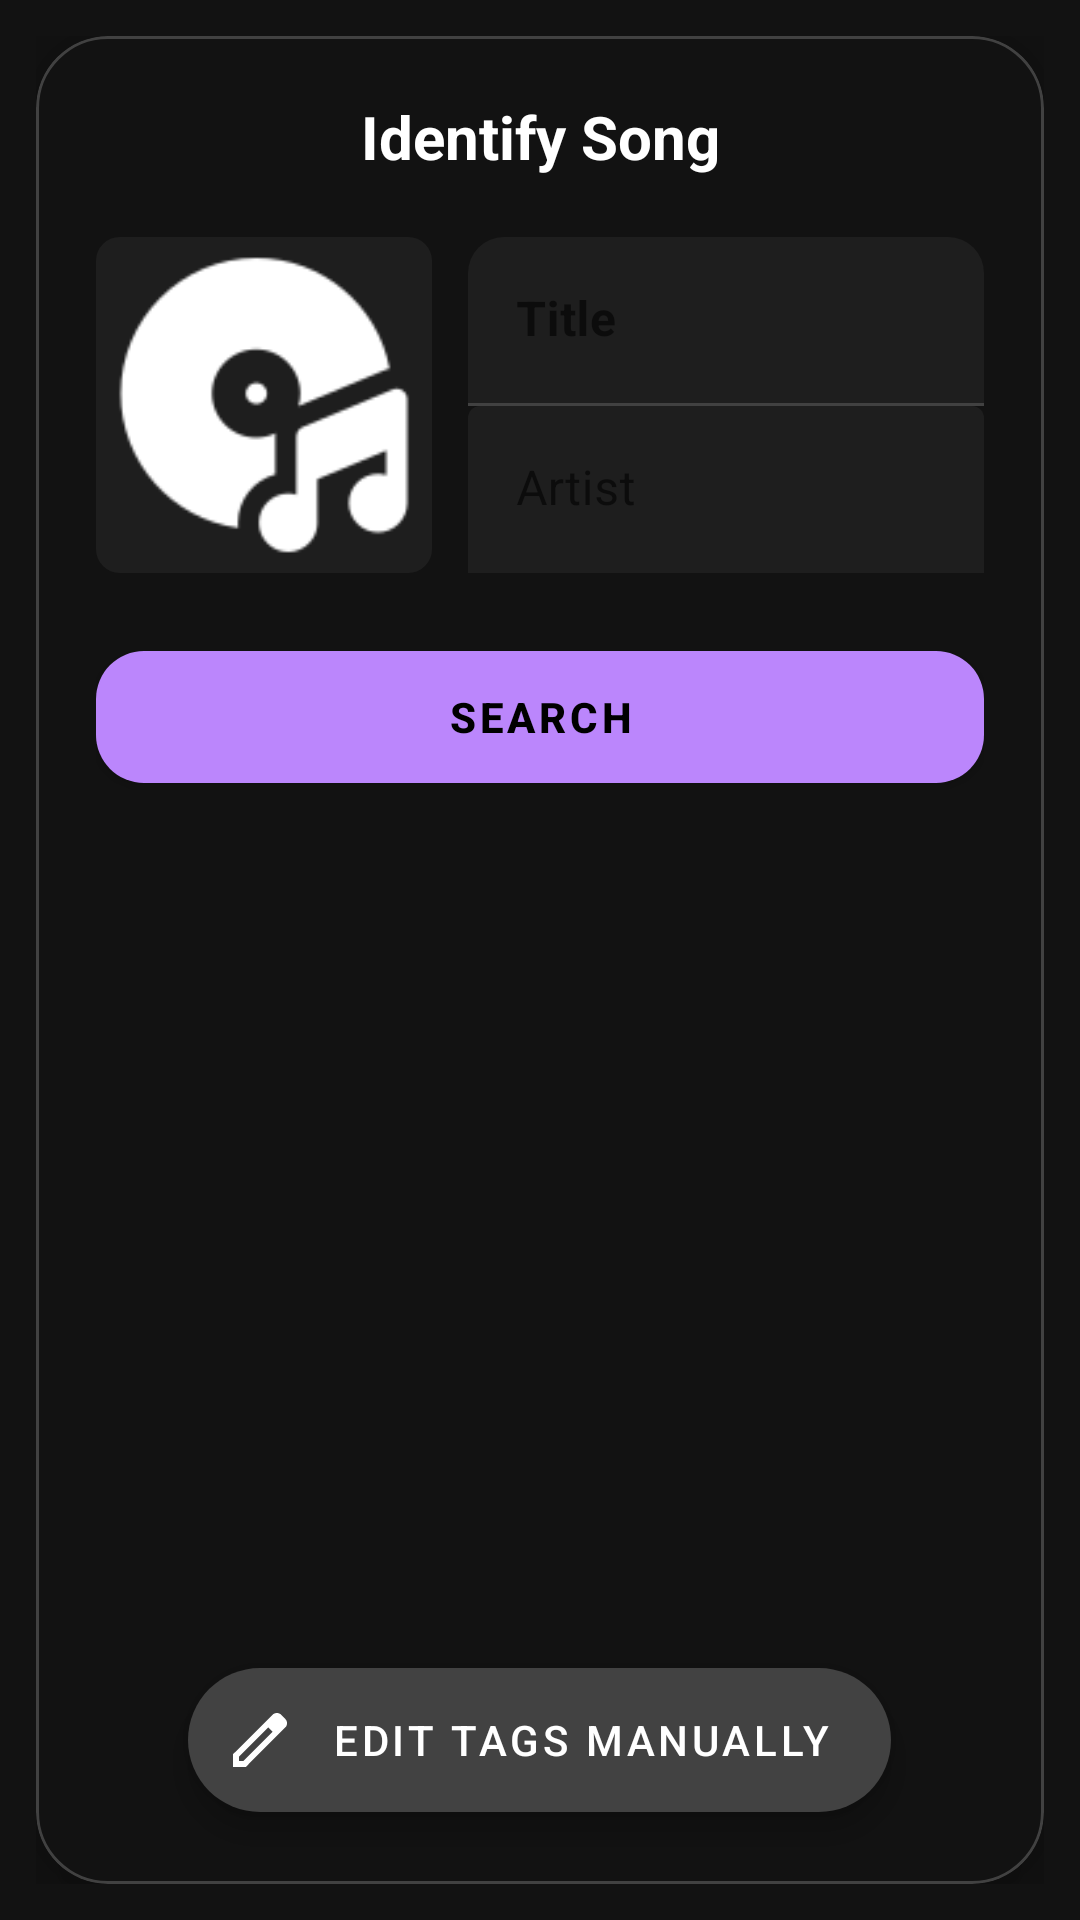

Locate icon controls on the screen. Image size 1080w x 1920h, boxes as (x1, y1, x2, y2).
music note: (119, 257, 409, 553)
